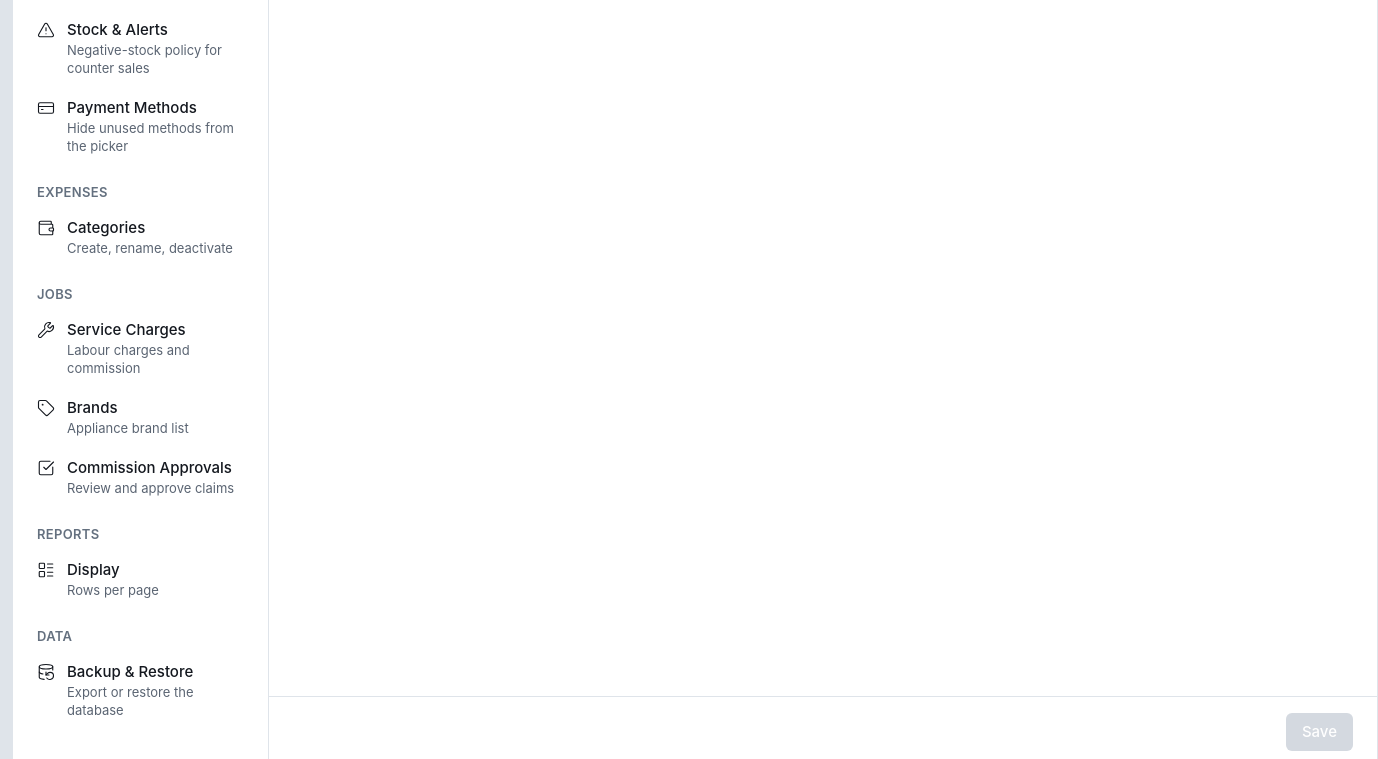
SettingsPage — P16-1b routing (OD-16-11) › clicking "Commission Approvals" in the sub-nav routes to its section and shows its title
(page scrolled)
Click the link "Commission Approvals Review and approve claims".
click(140, 477)  # box [25, 449, 256, 505]
(page scrolled)
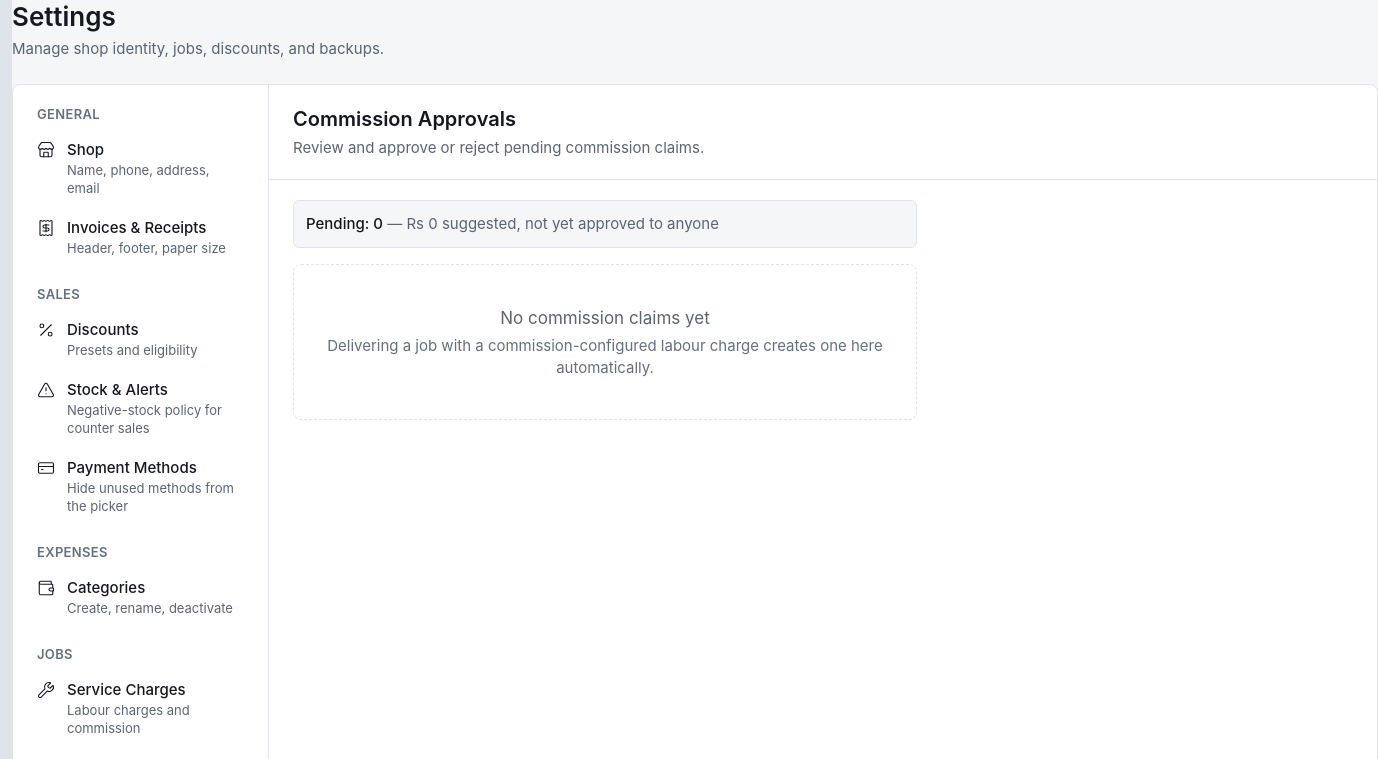
Now the heading "Commission Approvals" is shown, box [293, 107, 516, 131]
